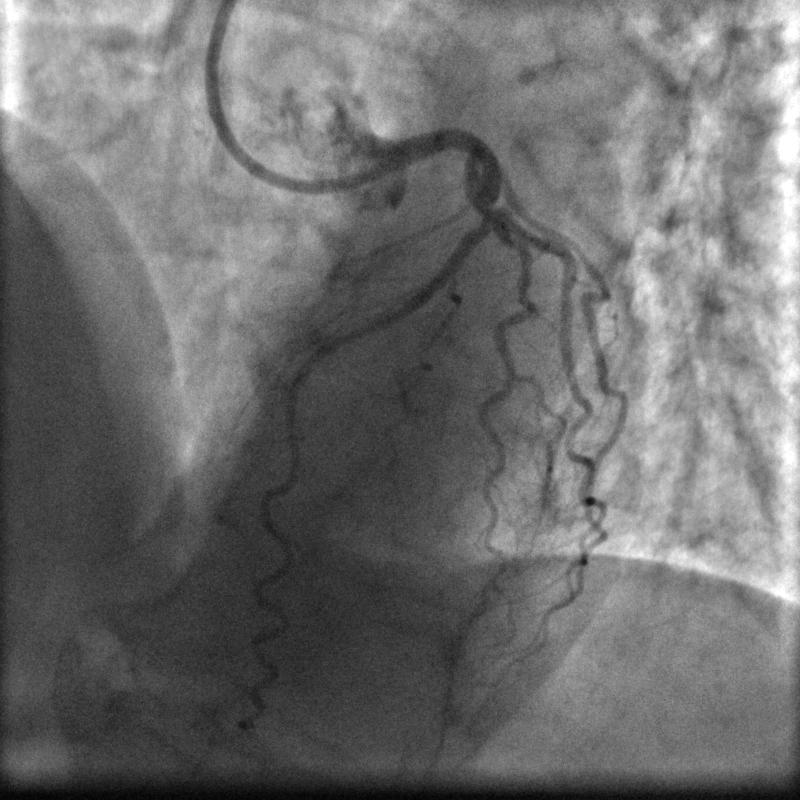Stenosis: (478, 211, 496, 236)
